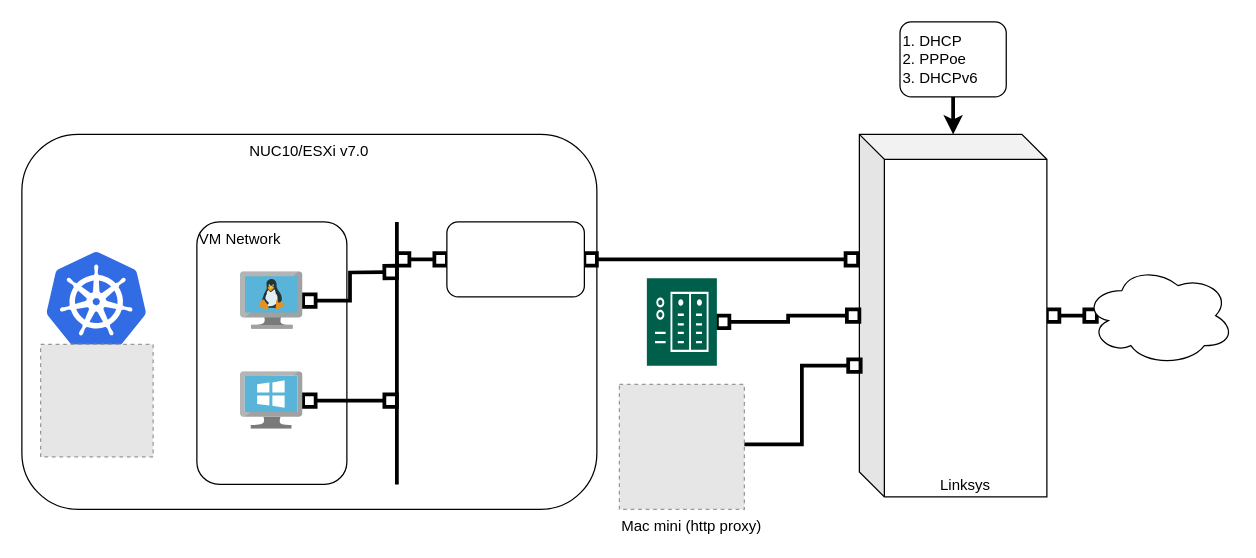
This 1256x558 diagram has some shape labels left out. Grey dashed boxes stand in for pictures. Here are the shapes that lost their labels. From the top down, the centre of each, then its label:
At point 515,259: "Physical adapters (1000Mbps Nic)".
At point 681,321: "NAS (pi)".
At point 1158,315: "ISP".
